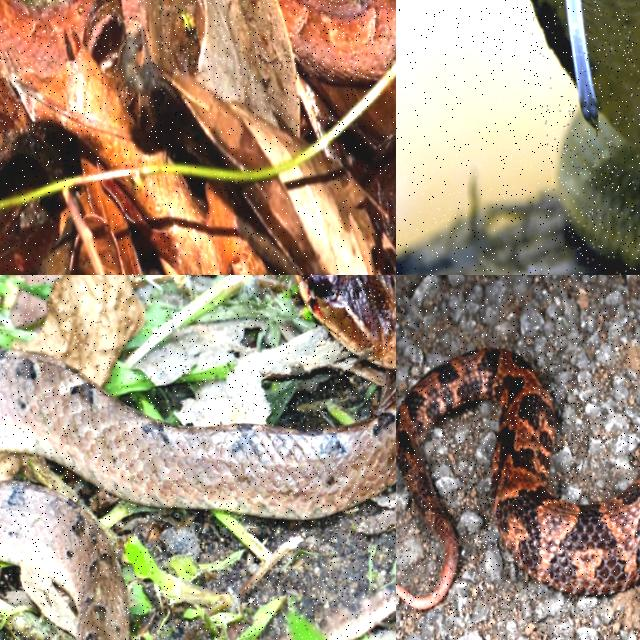Calloselasma rhodostoma: (0, 275, 395, 519), (279, 0, 395, 79)
Ophiophagus hannah: (532, 0, 639, 273)
Ovophis monticola: (396, 349, 639, 609)
